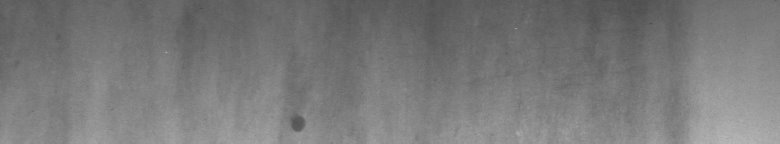fi: (288, 110, 311, 136)
